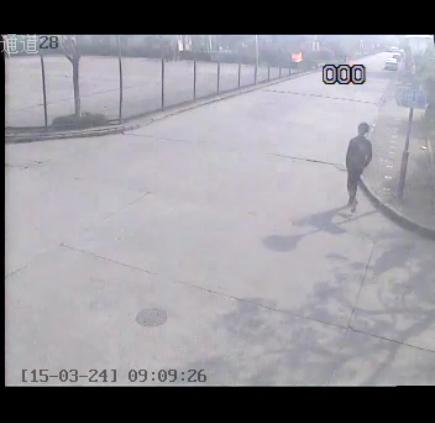person: (344, 120, 375, 215)
